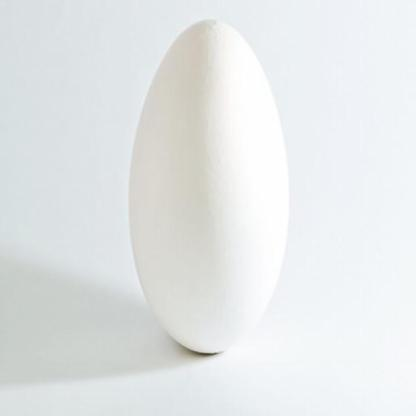egg: (122, 8, 304, 372)
